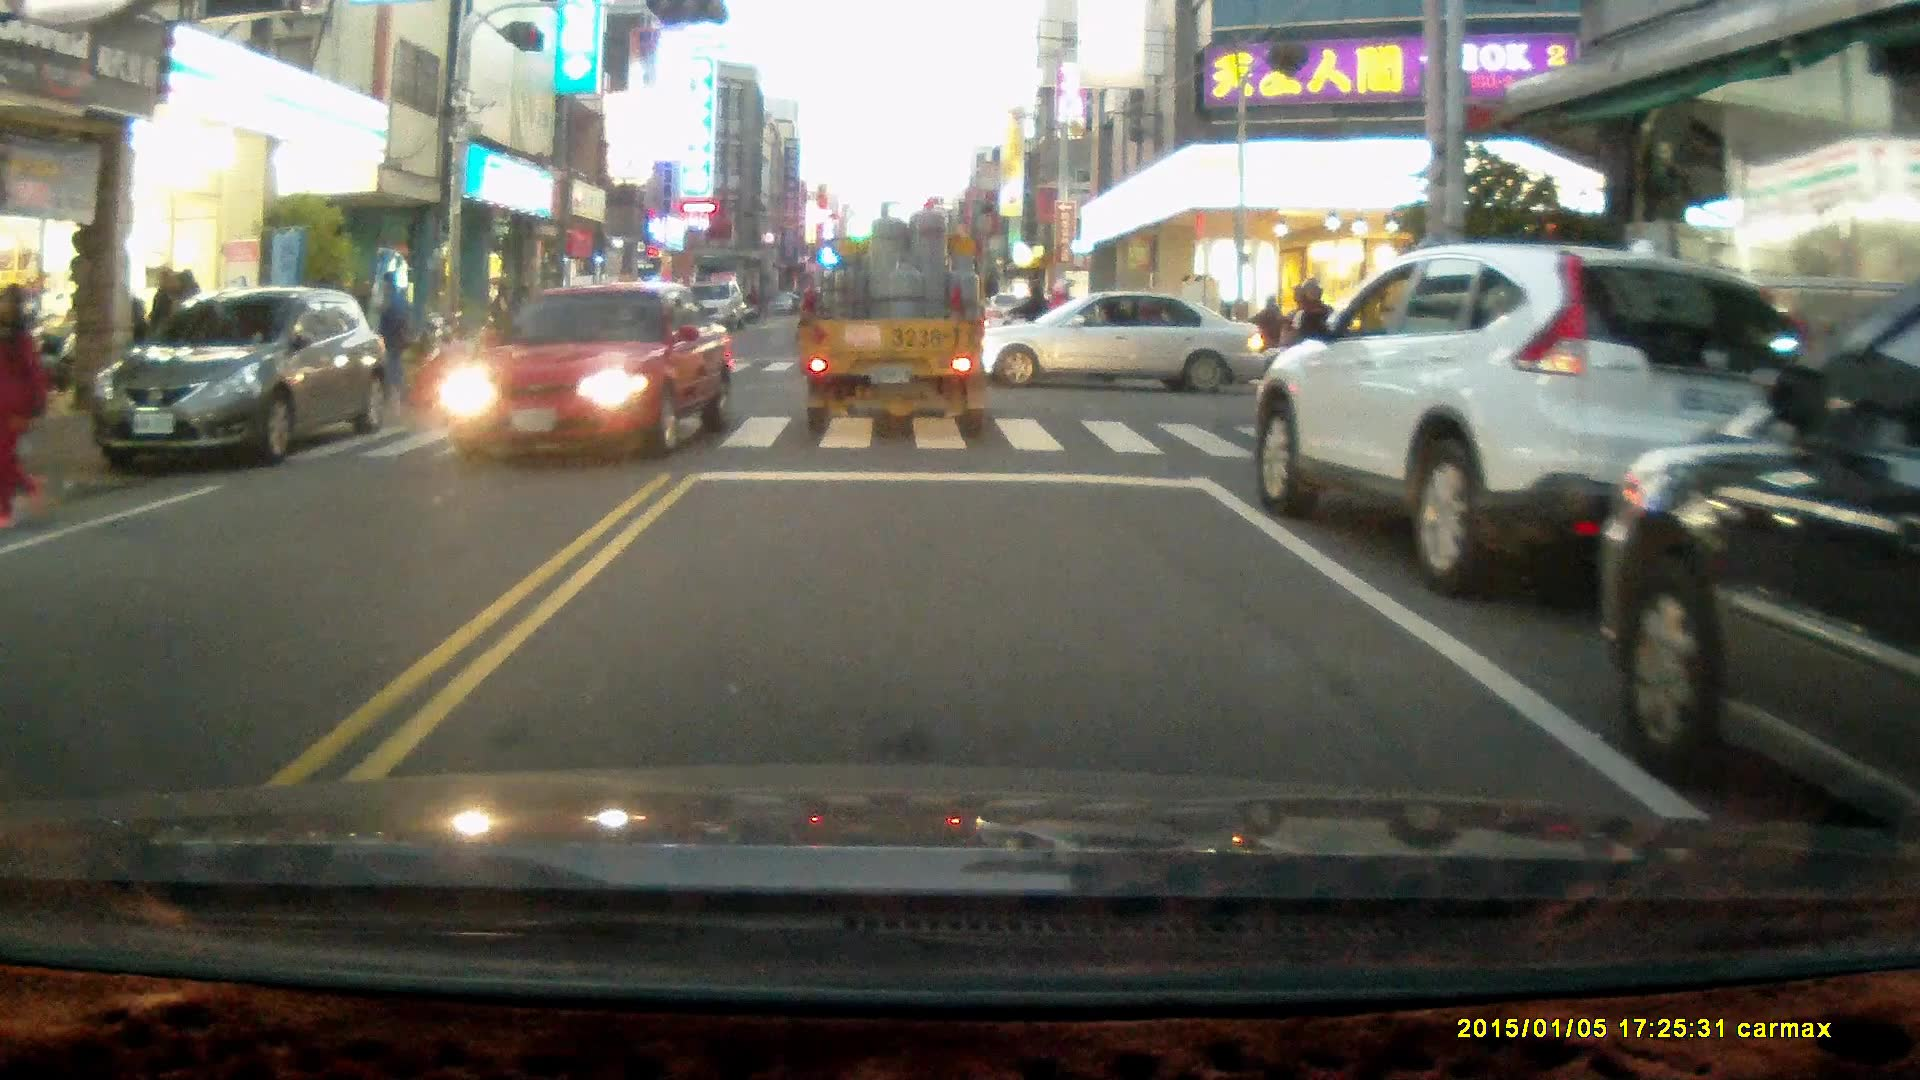pedestrian: (0, 282, 49, 536), (364, 268, 415, 409)
rider: (1220, 291, 1302, 384)
vehicle: (1252, 247, 1845, 603), (1603, 306, 1920, 855), (93, 286, 391, 473), (440, 281, 737, 464), (800, 193, 990, 451), (959, 292, 1269, 400)
